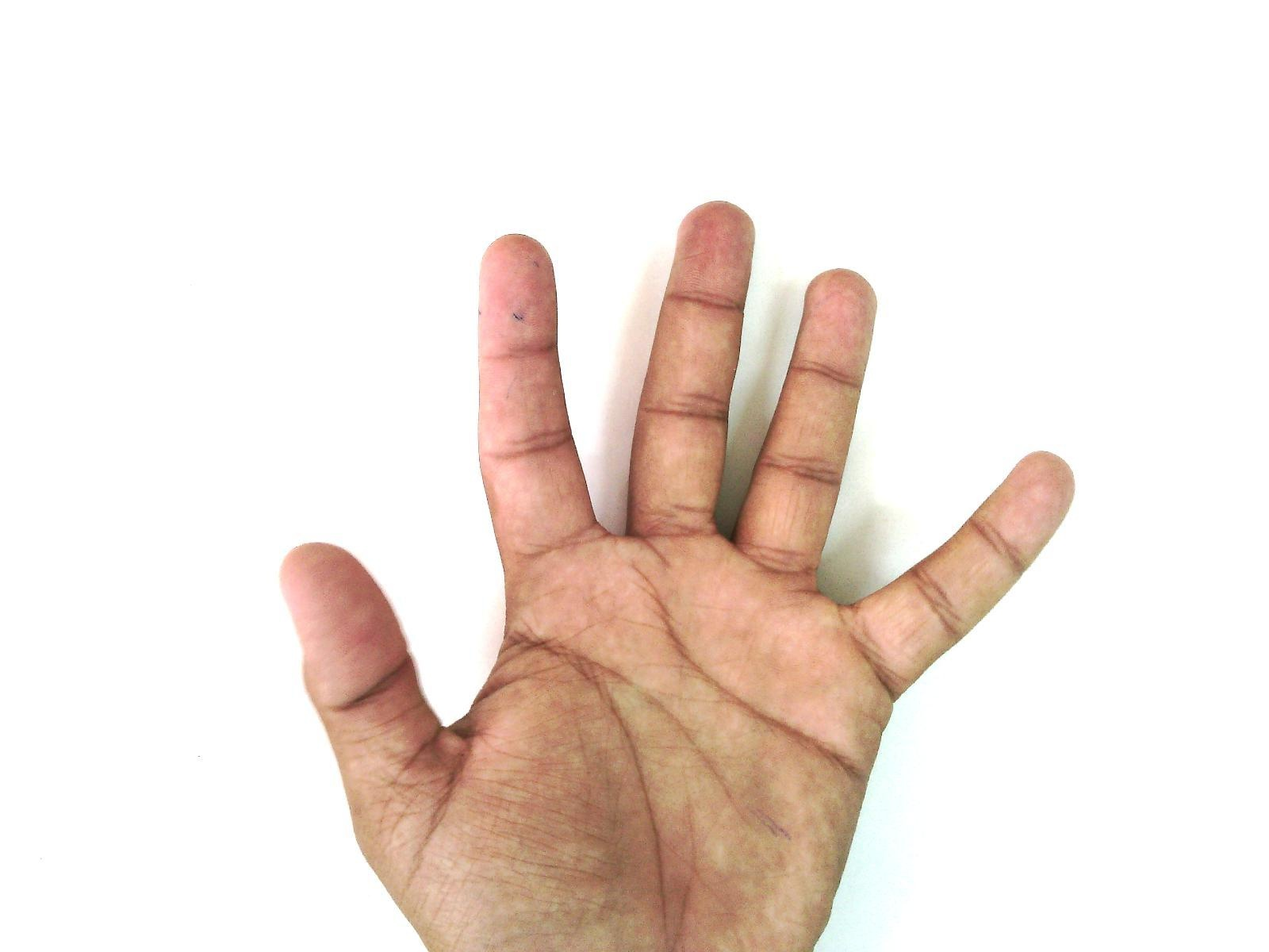open_palm: (278, 199, 1078, 952)
